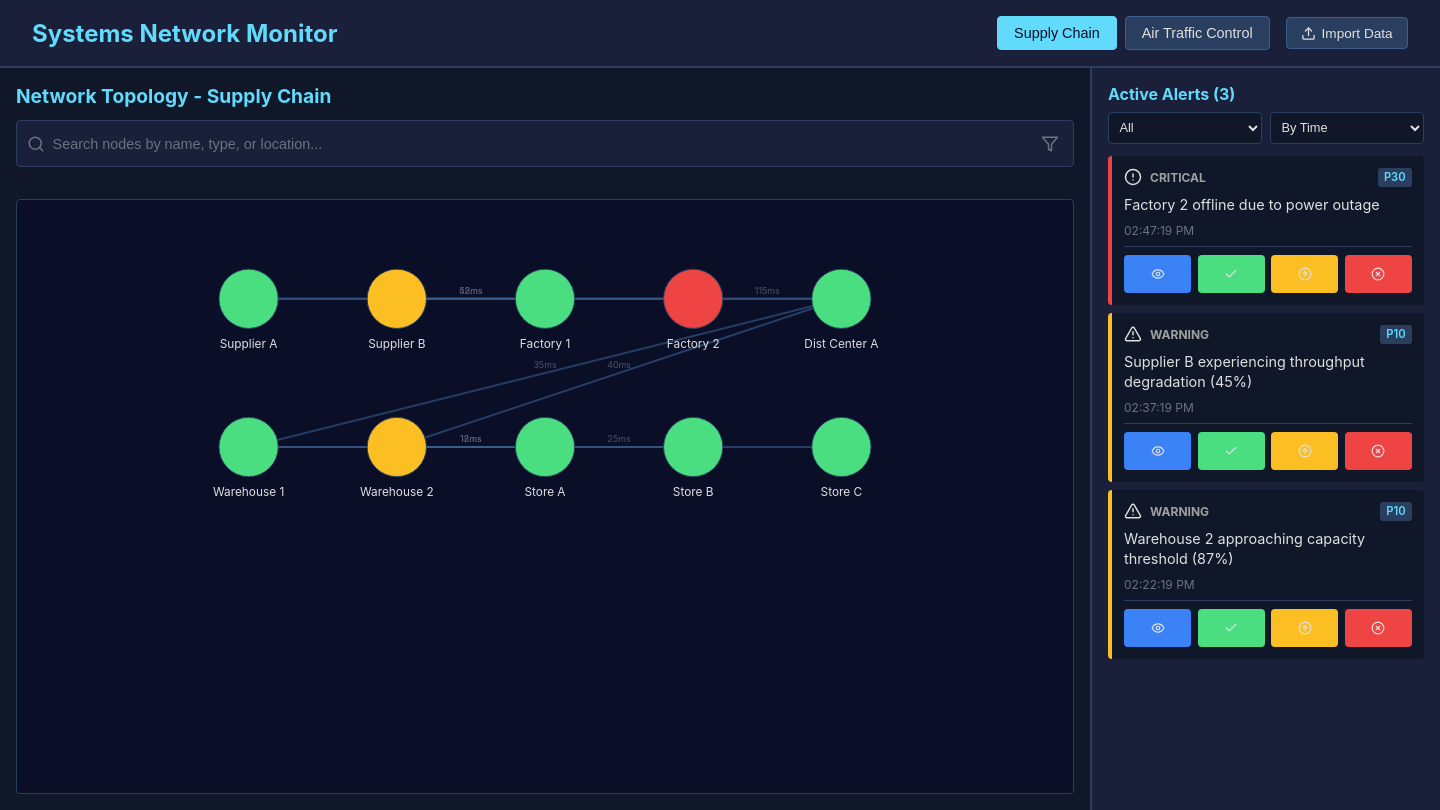
Test: switching system type updates topology heading
Expected: the heading "Network Topology - Supply Chain" is shown, [16,84,331,108]
Click ATC button
Click the button "Air Traffic Control". click: (1197, 33)
box: [1125,16,1270,50]
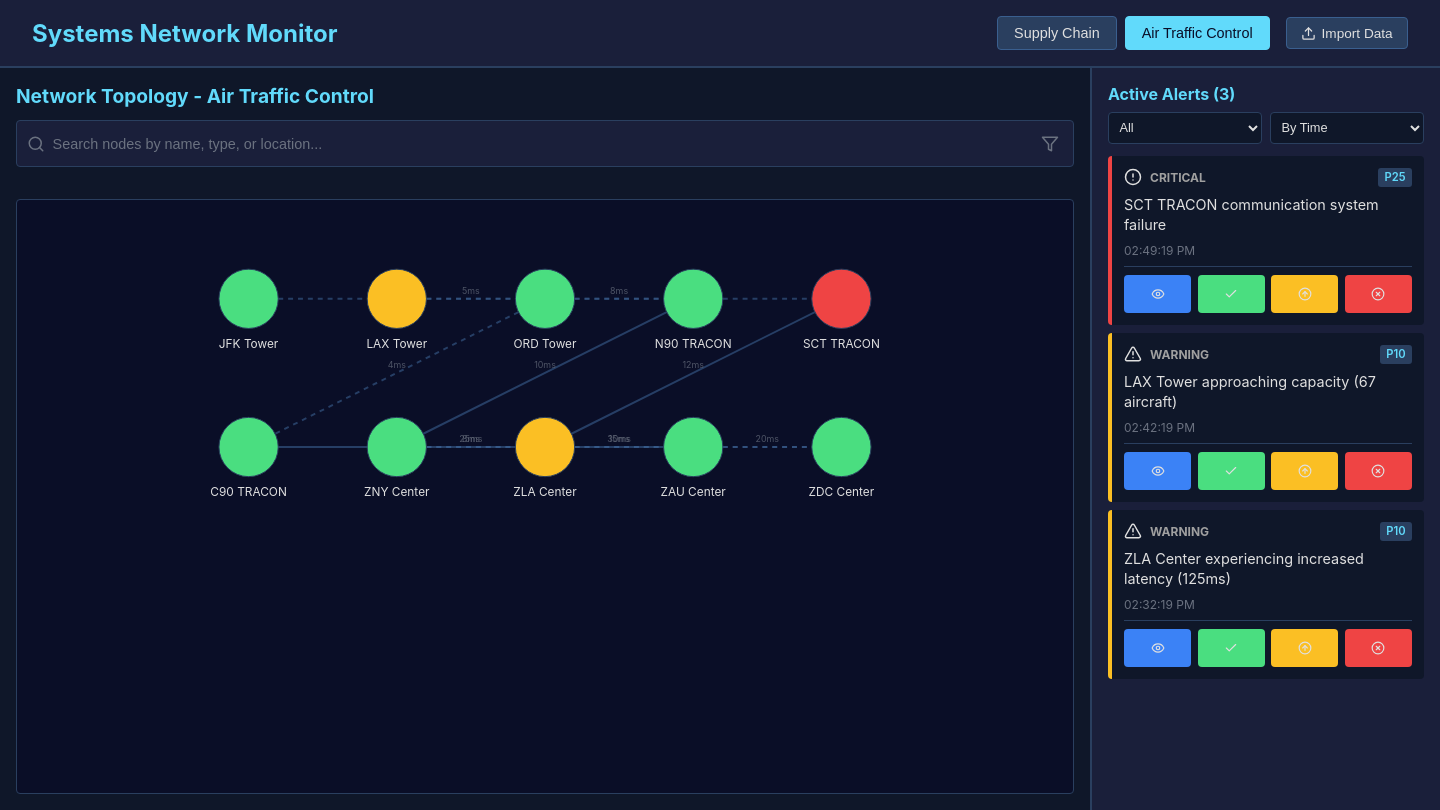
Now the heading "Network Topology - Air Traffic Control" is shown, box [16,84,374,108]
